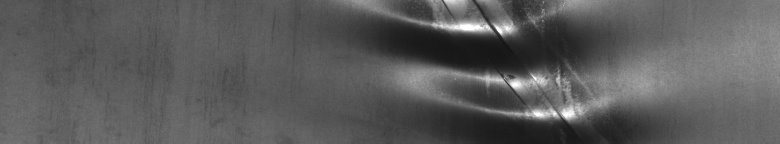ke: (388, 4, 587, 128)
